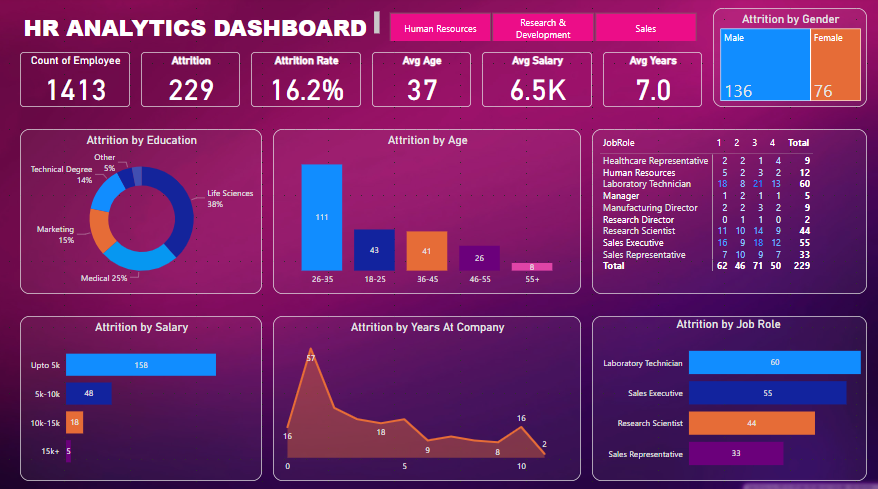

What the dashboard file says about the page in this screenshot:
{"tool":"powerbi","page":{"name":"Page 1","canvas":[1280,720],"ordinal":0},"visuals":[{"type":"card","title":"Count of Employee","fields":{"Values":["Count(HR_Analytics.EmpID)"]},"box":[32,80,160,80],"z":0},{"type":"card","title":"Attrition Rate","fields":{"Values":["HR_Analytics.AttritionRate"]},"box":[368,80,160,80],"z":1000},{"type":"card","title":"Attrition","fields":{"Values":["Sum(HR_Analytics.AttritionCount)"]},"box":[208,80,144,80],"z":2000},{"type":"card","title":"Avg Age","fields":{"Values":["Avg(HR_Analytics.Age)"]},"box":[544,80,144,80],"z":3000},{"type":"card","title":"Avg Salary","fields":{"Values":["Avg(HR_Analytics.MonthlyIncome)"]},"box":[704,80,160,80],"z":4000},{"type":"card","title":"Avg Years","fields":{"Values":["Avg(HR_Analytics.YearsAtCompany)"]},"box":[880,80,144,80],"z":5000},{"type":"donutChart","title":"Attrition by Education","fields":{"Category":["HR_Analytics.EducationField"],"Y":["Sum(HR_Analytics.AttritionCount)"]},"box":[32,192,352,240],"z":6000},{"type":"columnChart","title":"Attrition by Age","fields":{"Category":["HR_Analytics.AgeGroup"],"Y":["Sum(HR_Analytics.AttritionCount)"],"Series":["HR_Analytics.AgeGroup"]},"box":[400,192,448,240],"z":7000},{"type":"pivotTable","fields":{"Rows":["HR_Analytics.JobRole"],"Columns":["HR_Analytics.JobSatisfaction"],"Values":["Sum(HR_Analytics.AttritionCount)"]},"box":[864,192,400,240],"z":8000},{"type":"barChart","title":"Attrition by Job Role","fields":{"Category":["HR_Analytics.JobRole"],"Y":["Sum(HR_Analytics.AttritionCount)"],"Series":["HR_Analytics.JobRole"]},"box":[864,464,400,240],"z":9000},{"type":"areaChart","title":"Attrition by Years At Company","fields":{"Category":["HR_Analytics.YearsAtCompany"],"Y":["Sum(HR_Analytics.AttritionCount)"]},"box":[400,464,448,240],"z":10000},{"type":"barChart","title":"Attrition by Salary","fields":{"Category":["HR_Analytics.SalarySlab"],"Y":["Sum(HR_Analytics.AttritionCount)"],"Series":["HR_Analytics.SalarySlab"]},"box":[32,464,352,240],"z":11000},{"type":"treemap","title":"Attrition by Gender","fields":{"Group":["HR_Analytics.Gender"],"Values":["Sum(HR_Analytics.AttritionCount)"]},"box":[1040,16,224,144],"z":12000},{"type":"slicer","fields":{"Values":["HR_Analytics.Department"]},"box":[544,16,496,48],"z":13000},{"type":"textbox","box":[32,16,528,48],"z":14000}]}

Visuals, with their boxes in screenshot pixels (x1, y1, x2, y2), scaled from the page's 1280x720 canvas onto the 878x489 screenshot:
"Count of Employee" card: x1=22 y1=54 x2=132 y2=109
"Attrition Rate" card: x1=252 y1=54 x2=362 y2=109
"Attrition" card: x1=143 y1=54 x2=241 y2=109
"Avg Age" card: x1=373 y1=54 x2=472 y2=109
"Avg Salary" card: x1=483 y1=54 x2=593 y2=109
"Avg Years" card: x1=604 y1=54 x2=702 y2=109
"Attrition by Education" donutChart: x1=22 y1=130 x2=263 y2=293
"Attrition by Age" columnChart: x1=274 y1=130 x2=582 y2=293
pivotTable - HR_Analytics.JobRole x HR_Analytics.JobSatisfaction: x1=593 y1=130 x2=867 y2=293
"Attrition by Job Role" barChart: x1=593 y1=315 x2=867 y2=478
"Attrition by Years At Company" areaChart: x1=274 y1=315 x2=582 y2=478
"Attrition by Salary" barChart: x1=22 y1=315 x2=263 y2=478
"Attrition by Gender" treemap: x1=713 y1=11 x2=867 y2=109
slicer - HR_Analytics.Department: x1=373 y1=11 x2=713 y2=43
textbox: x1=22 y1=11 x2=384 y2=43
